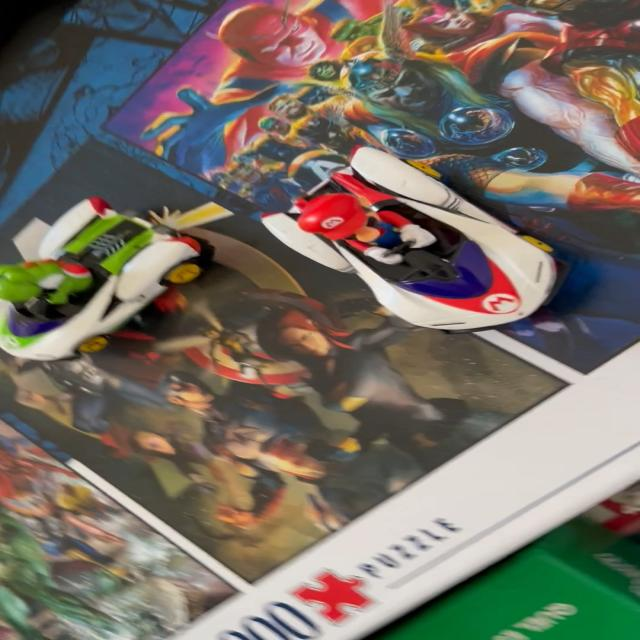mario: (253, 148, 582, 340)
yoshi: (3, 167, 227, 390)
